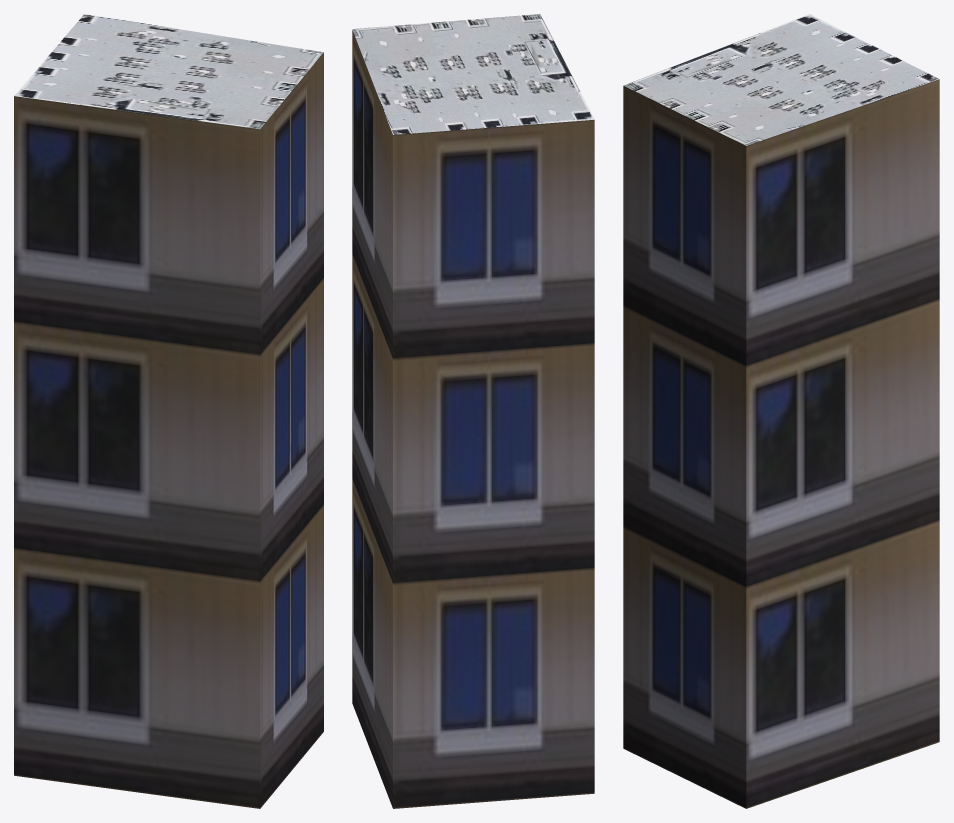
The model's file is ResTex__3115.fbx.
The picture shows the model from 3 angles, left to right: view 1: azimuth 30°, elevation 25°; view 2: azimuth 150°, elevation 25°; view 3: azimuth 270°, elevation 25°; orthographic projection. The views are drawn at different scales.
Visible parts, largest first — view 1: CityEngineMaterial_5_m, CityEngineMaterial_m; view 2: CityEngineMaterial_5_m, CityEngineMaterial_m; view 3: CityEngineMaterial_5_m, CityEngineMaterial_m.
Boxes of the visible parts, left/top/right/bottom form: CityEngineMaterial_5_m: left=14, top=52, right=323, bottom=808; CityEngineMaterial_m: left=14, top=14, right=323, bottom=129; CityEngineMaterial_5_m: left=352, top=30, right=594, bottom=808; CityEngineMaterial_m: left=352, top=14, right=594, bottom=134; CityEngineMaterial_5_m: left=623, top=79, right=939, bottom=808; CityEngineMaterial_m: left=623, top=14, right=939, bottom=145.
Bounding box in the file's own units: 3.84 × 9 × 3.89.
2 materials, 2 textured.
